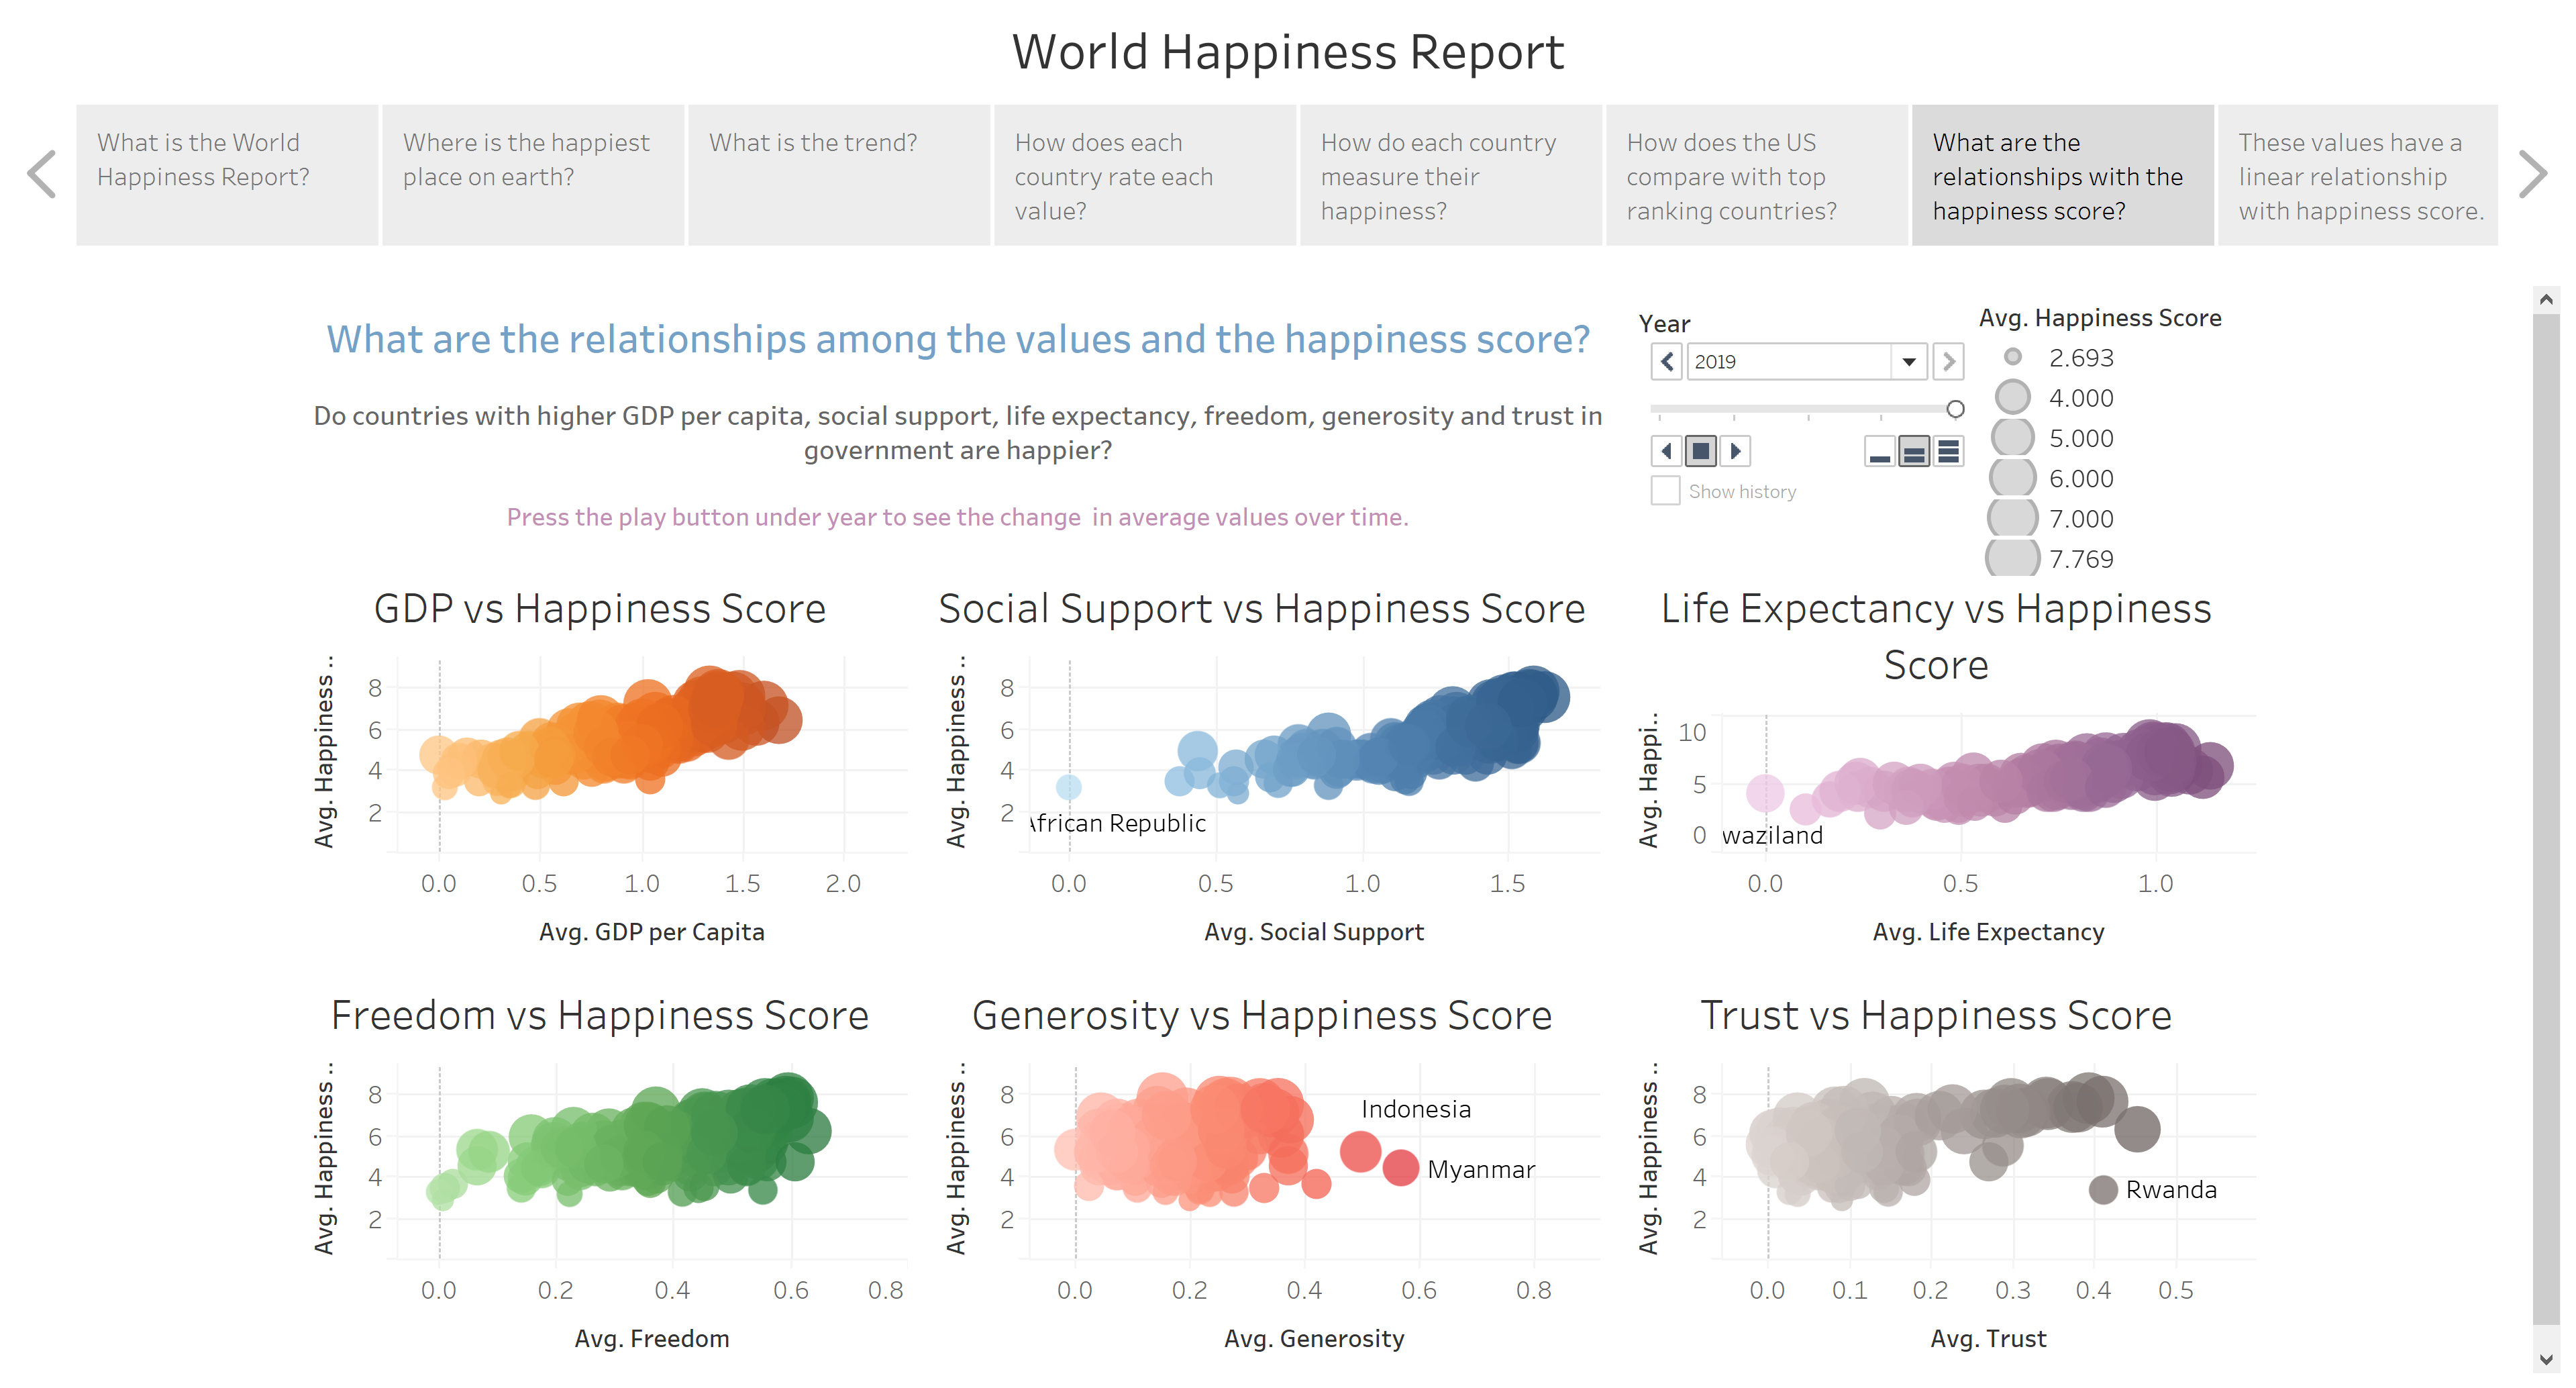

What the dashboard file says about the page in this screenshot:
{"tool":"tableau","page":{"name":"Relationships","canvas":[1000,800],"ordinal":7},"visuals":[{"type":"text","box":[8,8,670,117]},{"type":"legend","title":"SocSup vs. Happy","param":"[federated.0288aqt07rcfdi14a66nn16ywf3s].[avg:Happiness Score:qk]","box":[850,10,140,138]},{"type":"currpage","title":"SocSup vs. Happy","box":[681,15,168,110]},{"type":"worksheet","title":"GDP vs. Happy","mark":"Automatic","rows":["Happiness Score"],"cols":["GDP per Capita"],"box":[8,153,314,319.5]},{"type":"worksheet","title":"SocSup vs. Happy","mark":"Automatic","rows":["Happiness Score"],"cols":["Social Support"],"box":[322,153,344,319.5]},{"type":"worksheet","title":"Life vs. Happy","mark":"Automatic","rows":["Happiness Score"],"cols":["Life Expectancy"],"box":[666,153,326,319.5]},{"type":"worksheet","title":"Freedom vs. Happy","mark":"Automatic","rows":["Happiness Score"],"cols":["Freedom"],"box":[8,472.5,314,319.5]},{"type":"worksheet","title":"Generosity vs. Happy","mark":"Automatic","rows":["Happiness Score"],"cols":["Generosity"],"box":[322,472.5,344,319.5]},{"type":"worksheet","title":"Trust vs. Happy","mark":"Automatic","rows":["Happiness Score"],"cols":["Trust (Government Corruption)"],"box":[666,472.5,326,319.5]}]}

Visuals, with their boxes on the page's 1000x800 design canvas (x1, y1, x2, y2). These are canvas units, not pixel positions in the 2576x1388 screenshot, which may show the page scaled, cropped or inside an application window:
text: left=8, top=8, right=678, bottom=125
"SocSup vs. Happy" legend: left=850, top=10, right=990, bottom=148
"SocSup vs. Happy" currpage: left=681, top=15, right=849, bottom=125
"GDP vs. Happy" worksheet: left=8, top=153, right=322, bottom=472
"SocSup vs. Happy" worksheet: left=322, top=153, right=666, bottom=472
"Life vs. Happy" worksheet: left=666, top=153, right=992, bottom=472
"Freedom vs. Happy" worksheet: left=8, top=472, right=322, bottom=792
"Generosity vs. Happy" worksheet: left=322, top=472, right=666, bottom=792
"Trust vs. Happy" worksheet: left=666, top=472, right=992, bottom=792
